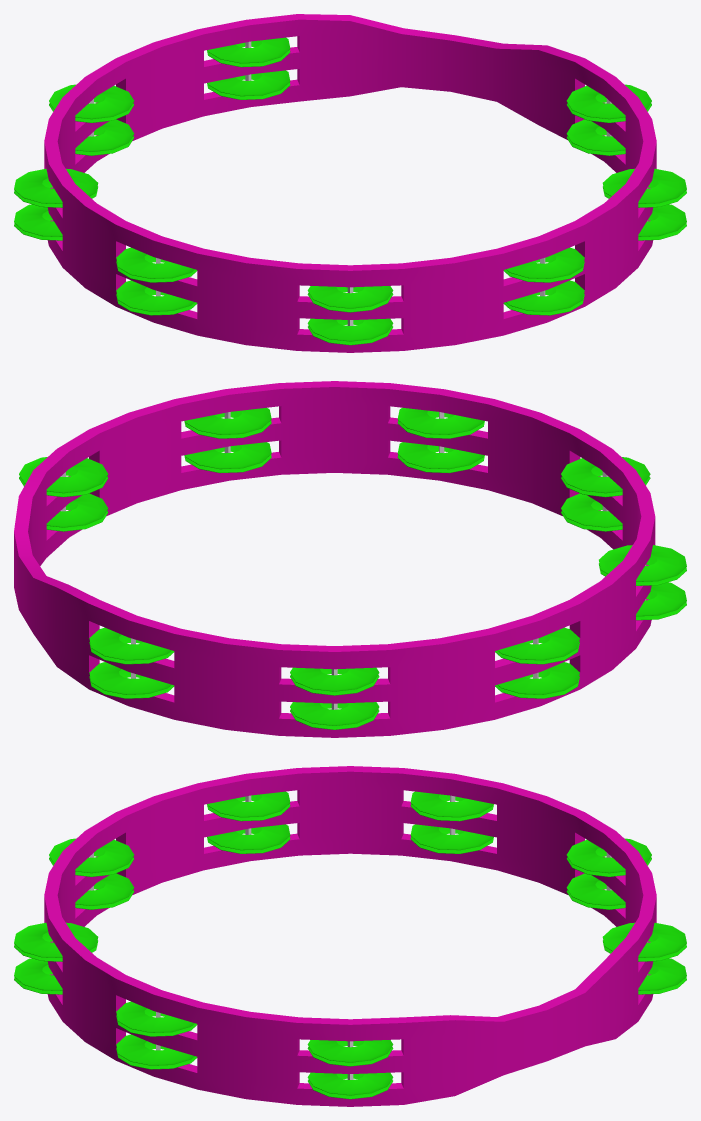
The model's file is Tambourine.fbx.
3 renders of one model, top to bottom at view 1: azimuth 30°, elevation 25°; view 2: azimuth 150°, elevation 25°; view 3: azimuth 270°, elevation 25°, orthographic. The views are drawn at different scales.
Visible parts, largest first — view 1: Tambourine; view 2: Tambourine; view 3: Tambourine.
Boxes of the visible parts, x1,y1,x2,y2 form: Tambourine: [14, 14, 686, 352]; Tambourine: [14, 381, 686, 737]; Tambourine: [14, 766, 686, 1106].
Bounding box in the file's own units: 2203 × 300 × 2230.
